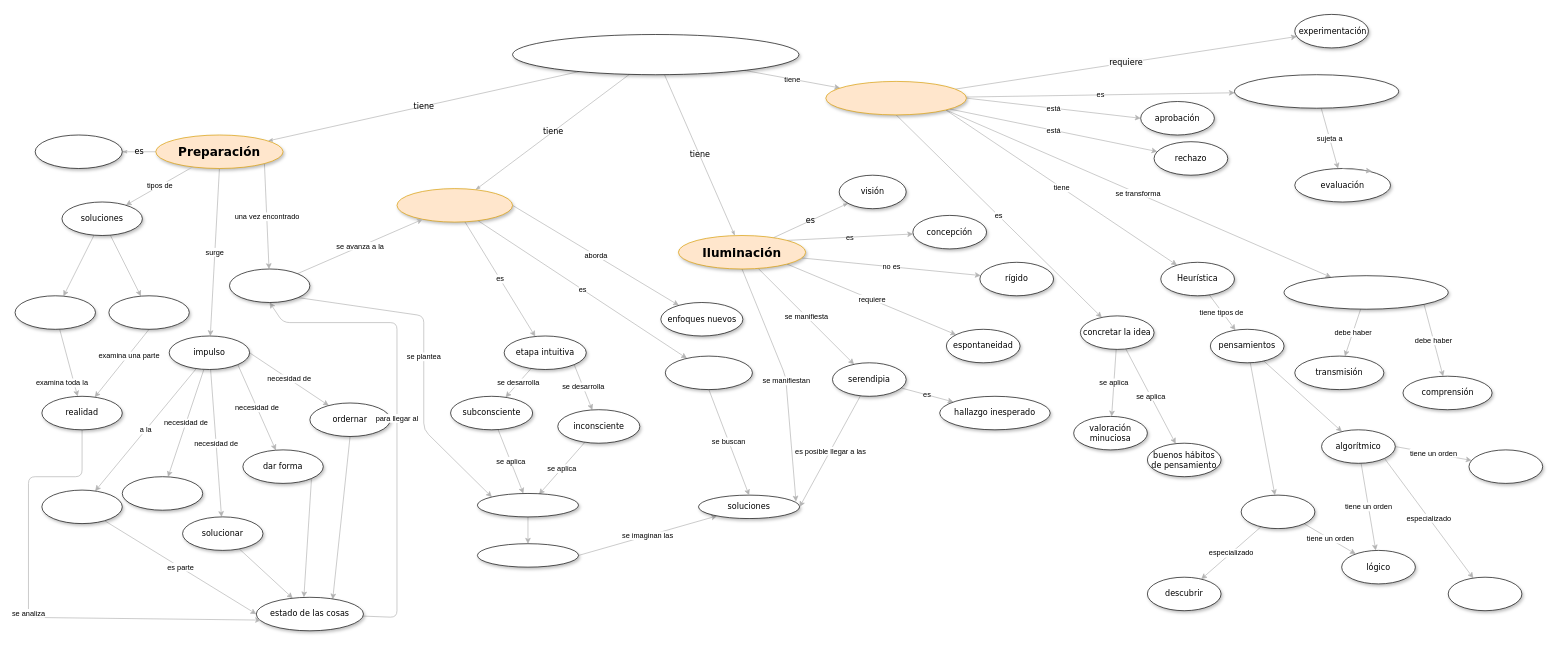
Some shapes in this 1558 by 647 pixel diagram are drawn without their labels. The shapes that lost their labels are listed below. From the top down, each one's centre as x and y in pixels, then its label:
At pixel 656 55: "Fases de la creatividad".
At pixel 896 99: "Verificación".
At pixel 1317 92: "etapa de formulación lógica".
At pixel 79 152: "Fase exploratoria".
At pixel 455 206: "Incubación".
At pixel 270 286: "problema definido".
At pixel 1366 293: "idea objetiva al lenguaje de símbolos".
At pixel 55 313: "divergente".
At pixel 149 313: "convergente".
At pixel 709 373: "tiempo de espera".
At pixel 1506 467: "cronológico".
At pixel 82 507: "actividad".
At pixel 163 494: "cambiar".
At pixel 528 506: "es libre".
At pixel 1278 512: "heurístico".
At pixel 528 556: "comprensión total".
At pixel 1485 594: "verificar".
